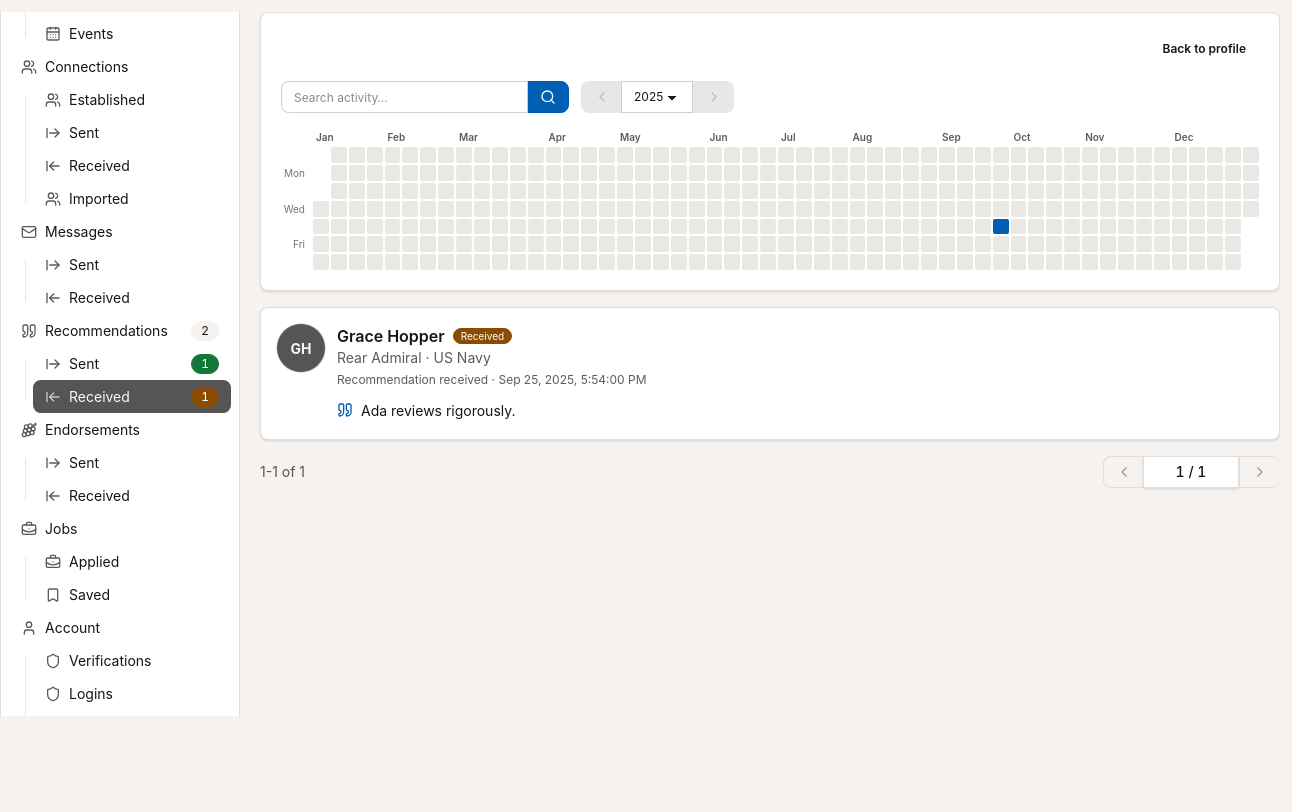
Test: ActivityPage › shows recommendation filters and applies recommendation activity filtering
The image size is (1292, 812).
(page scrolled)
Check: the button named "Recommendations received" is shown, box [33, 380, 231, 413]
Check: the text "Ada reviews rigorously." is shown, box [361, 400, 516, 423]
Click the button named "Recommendations sent".
click(132, 364)  # box [33, 347, 231, 380]
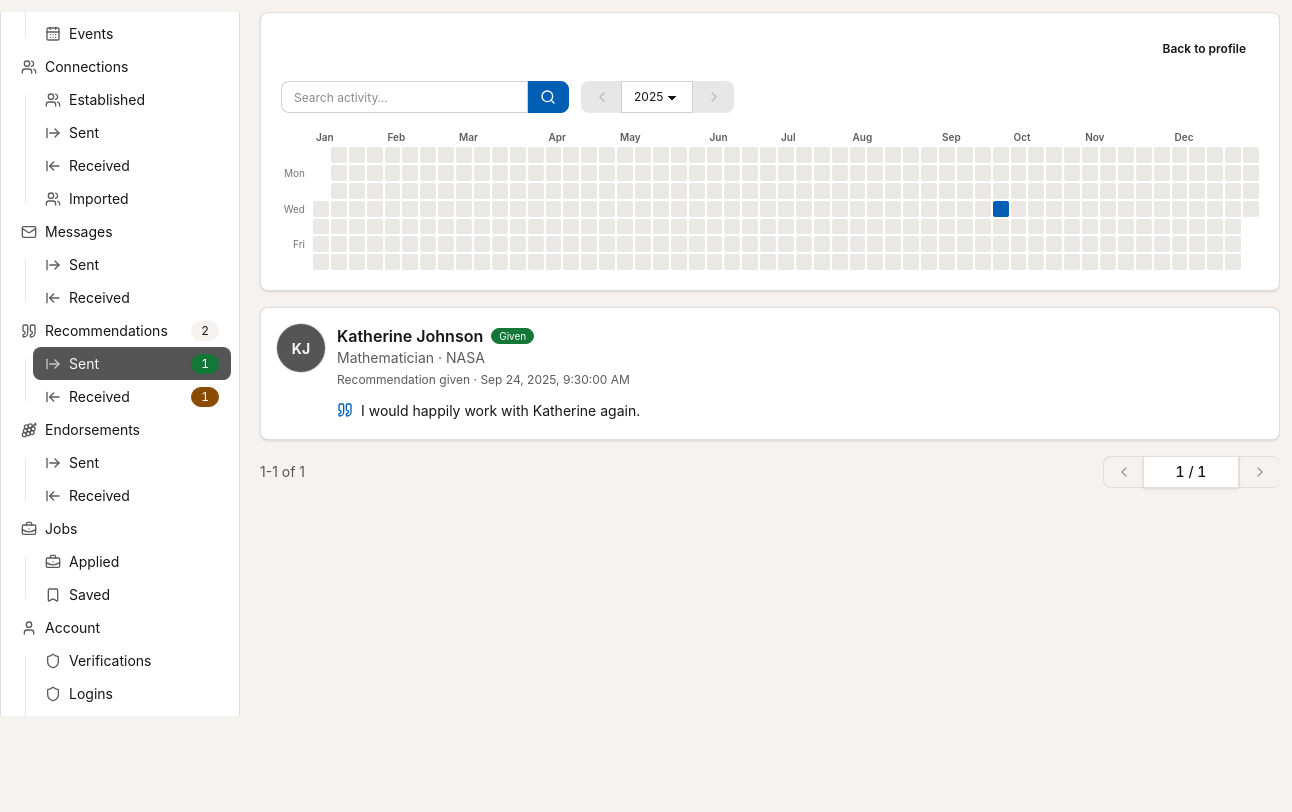
Check: the text "I would happily work with Katherine again." is shown, box [361, 400, 640, 423]
Check: the text "Ada reviews rigorously." is gone
